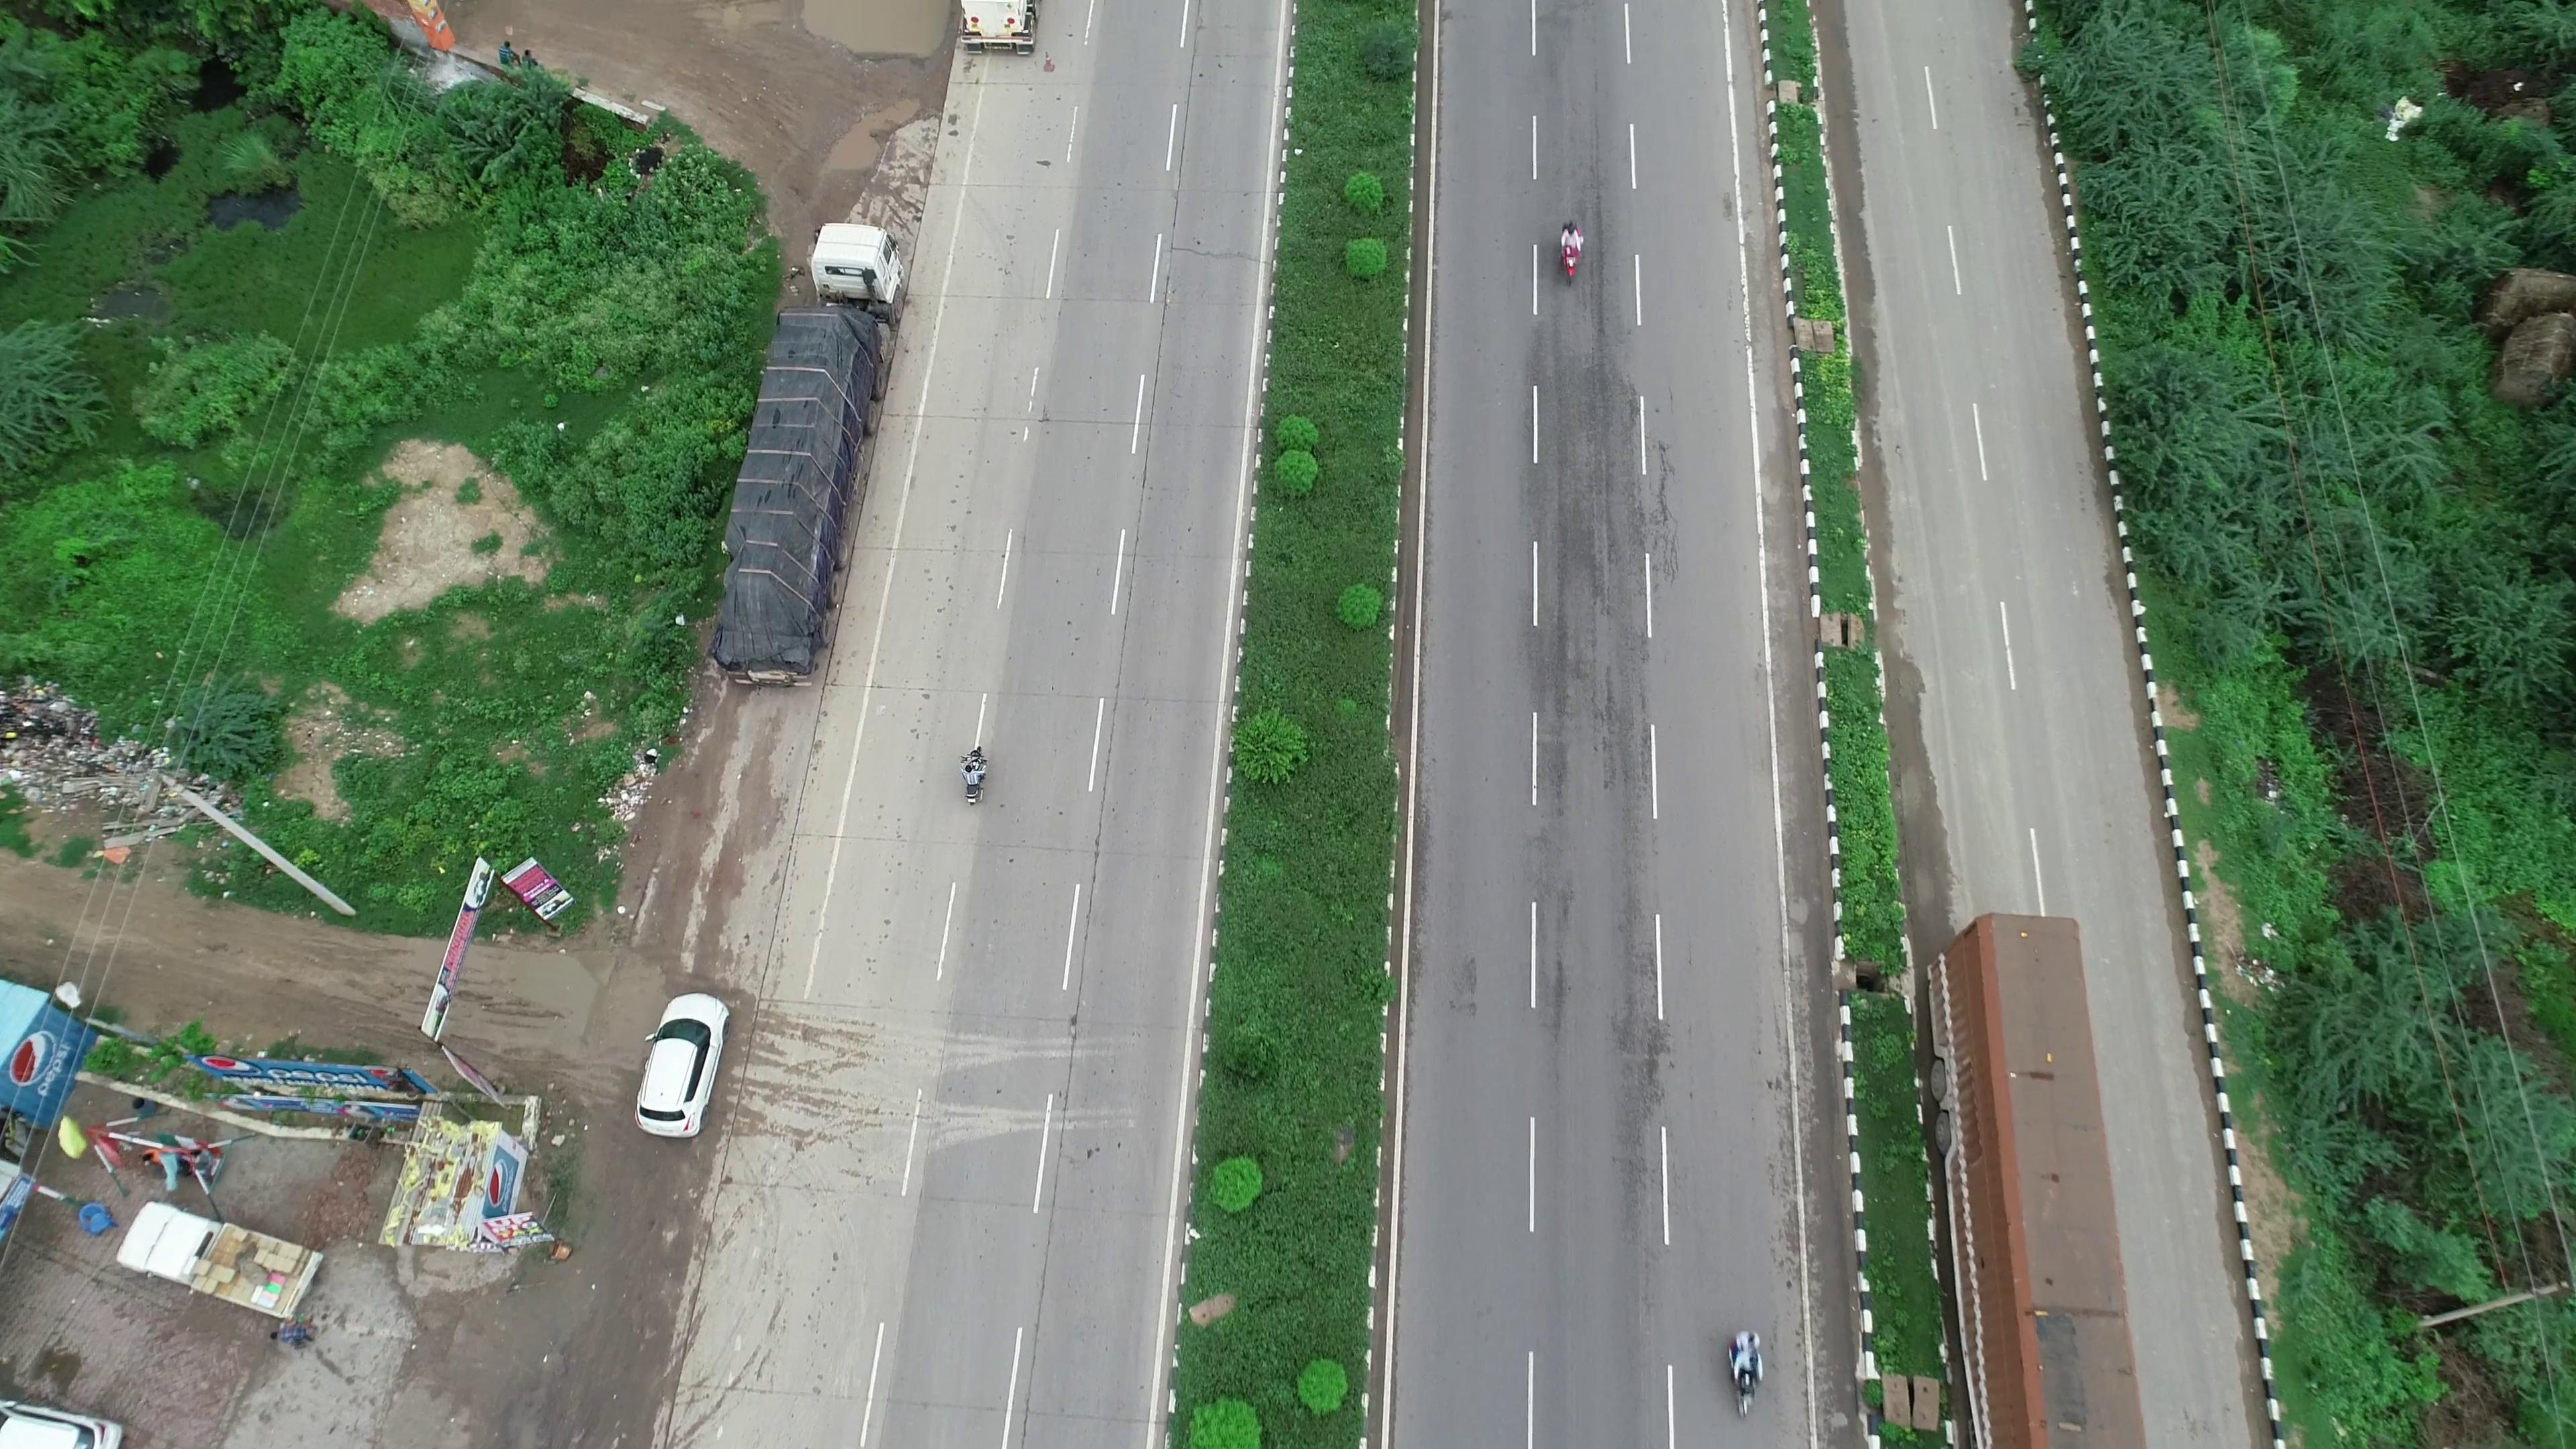Longitudinal_cracks: (1658, 421, 1681, 580)
Ravelling: (1548, 327, 1640, 614)
